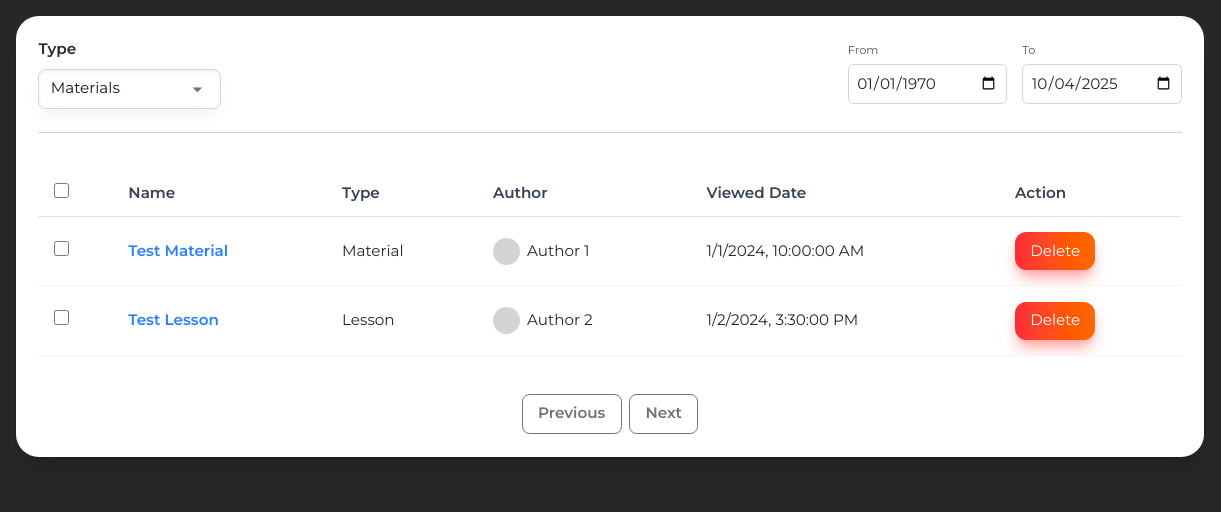
Test: HistoryPage Component › Entry Selection › should handle select all functionality
This screenshot has width=1221, height=512.
Check: the text "Test Material" is shown, box [113,217,327,286]
What coordinates should you click on to do the following:
click the checkbox next to "Name"
I would click on:
 (61, 190)
Its box is [54,183,69,198].
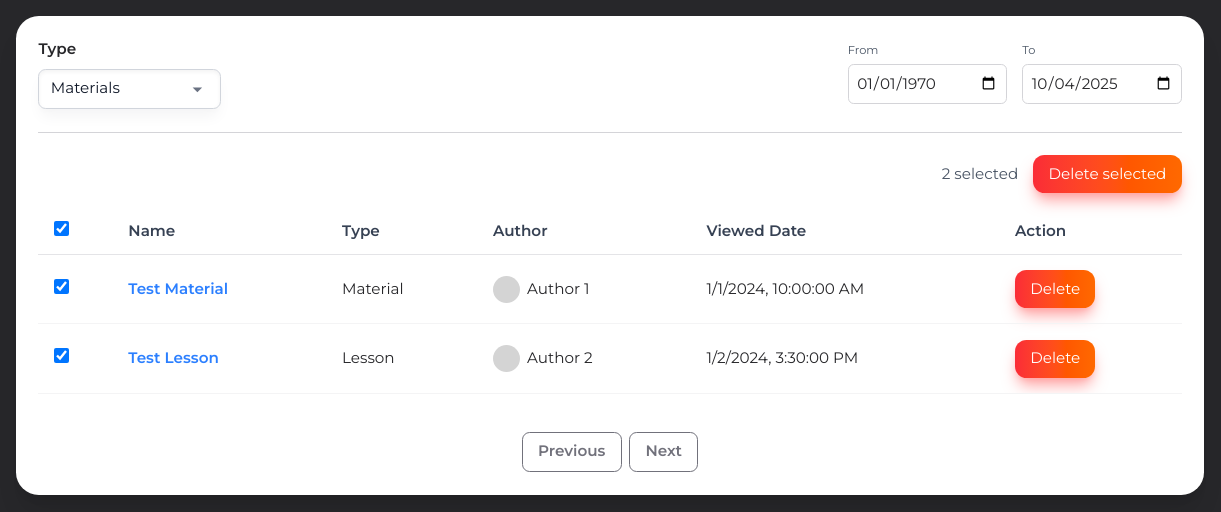
Check: the text "2 selected" is shown, box [942,163,1018,186]
